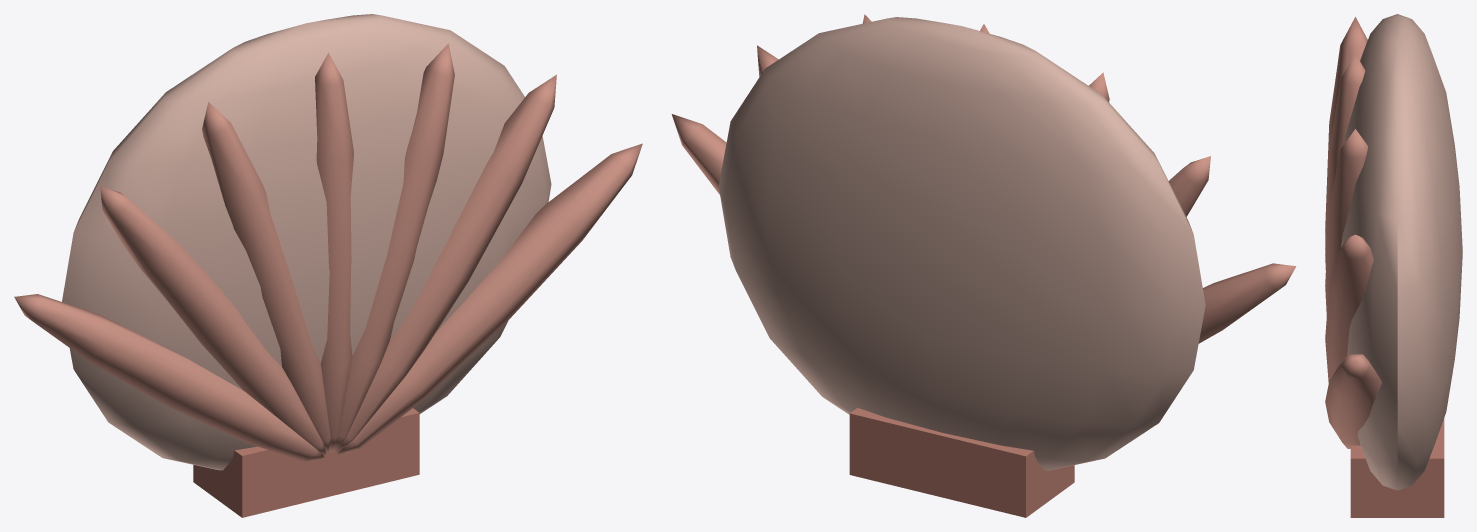
The model's file is item_seashell.glb.
3 renders of one model, left to right at view 1: azimuth 30°, elevation 25°; view 2: azimuth 150°, elevation 25°; view 3: azimuth 270°, elevation 25°, orthographic. The views are drawn at different scales.
Visible parts, largest first — view 1: item_seashell; view 2: item_seashell; view 3: item_seashell.
Part boxes in pixels (x1,y1,x2,y2): item_seashell: (14,14,642,517); item_seashell: (671,14,1296,517); item_seashell: (1325,14,1462,517).
Bounding box in the file's own units: 0.1489 × 0.103 × 0.0295.
